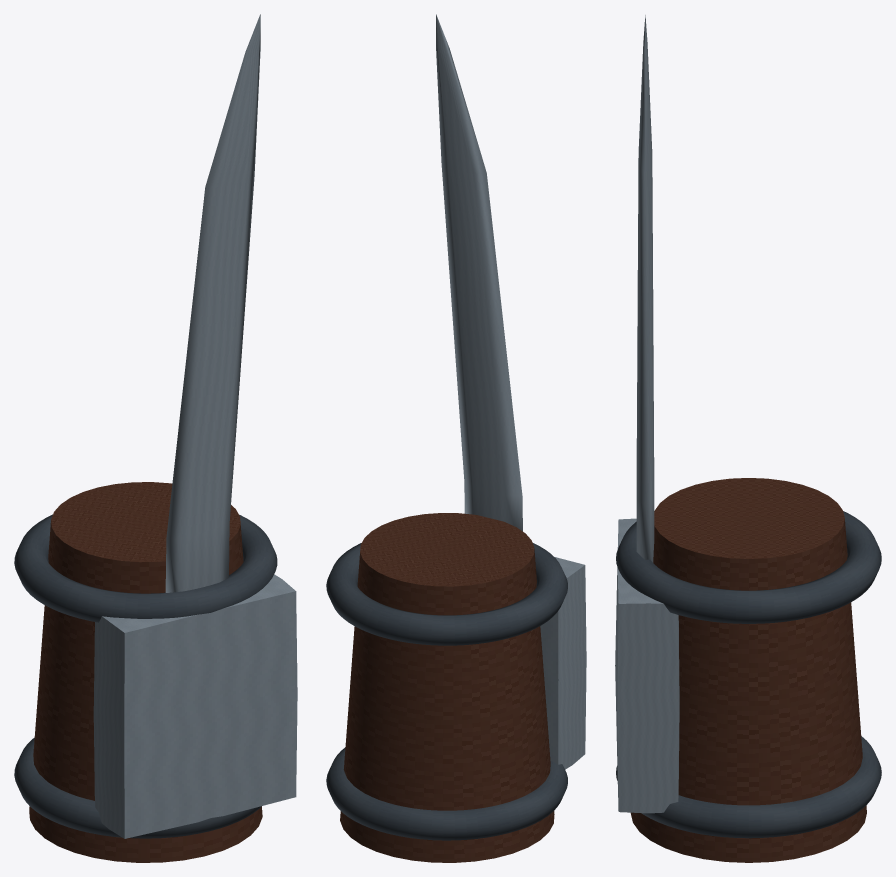
Rendered from arm-blade.glb.
3 renders of one model, left to right at view 1: azimuth 30°, elevation 25°; view 2: azimuth 150°, elevation 25°; view 3: azimuth 270°, elevation 25°, orthographic. The views are drawn at different scales.
Visible parts, largest first — view 1: steel.3, leather.0, blade, iron.2, iron.1; view 2: leather.0, blade, iron.2, iron.1, steel.3; view 3: leather.0, steel.3, iron.2, blade, iron.1.
Part boxes in pixels (x1,y1,x2,y2): steel.3: [93, 574, 297, 838]; leather.0: [29, 482, 262, 862]; blade: [165, 14, 260, 592]; iron.2: [14, 514, 277, 622]; iron.1: [14, 737, 261, 838]; leather.0: [340, 513, 554, 862]; blade: [436, 14, 522, 531]; iron.2: [326, 543, 567, 645]; iron.1: [326, 747, 567, 840]; steel.3: [540, 557, 586, 769]; leather.0: [630, 478, 866, 862]; steel.3: [615, 518, 679, 813]; iron.2: [616, 511, 881, 623]; blade: [636, 15, 654, 562]; iron.1: [616, 736, 881, 838].
Size of the model in its own units: 0.18 by 0.62 by 0.1805.
3 materials, 3 textured.
